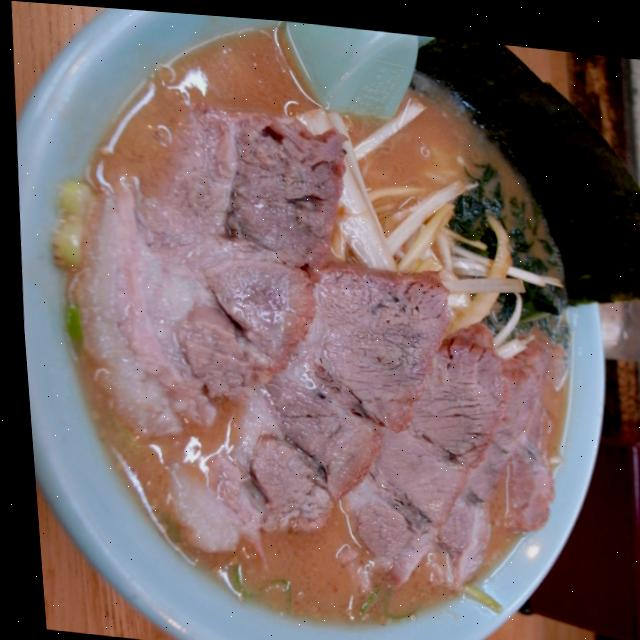面条主食: (21, 1, 640, 545)
